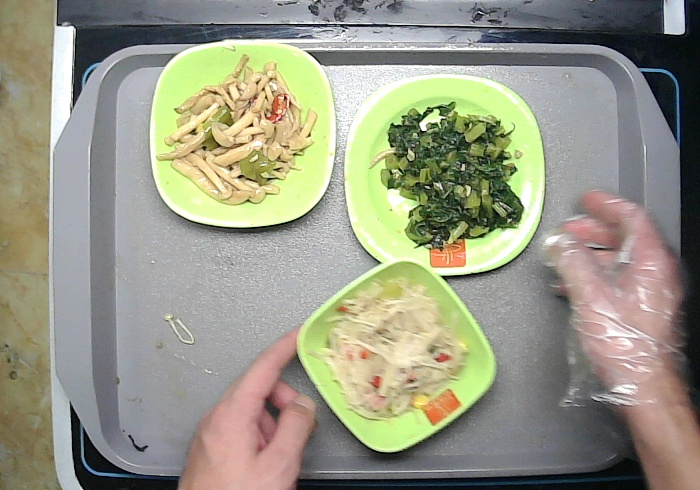SHKJ-Lv_Se_Cai_Die: (147, 39, 345, 231)
SHKJ-Lv_Se_Si_Fang_Cai_Die: (341, 72, 551, 283)
SHKJ-Lv_Se_Xiao_Fang_Die: (293, 255, 505, 460)
